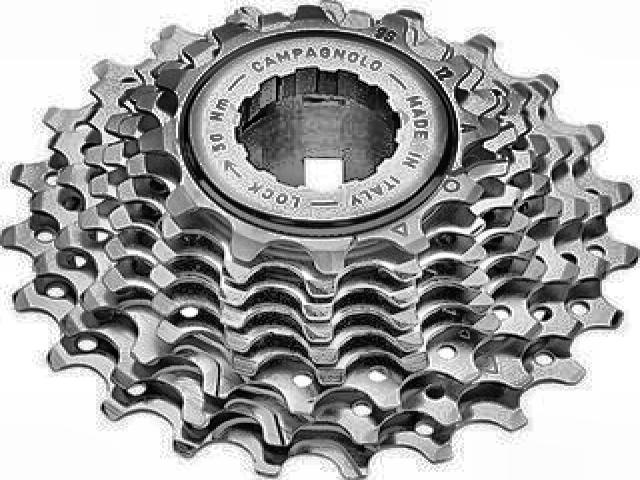cassette: (7, 2, 628, 478)
